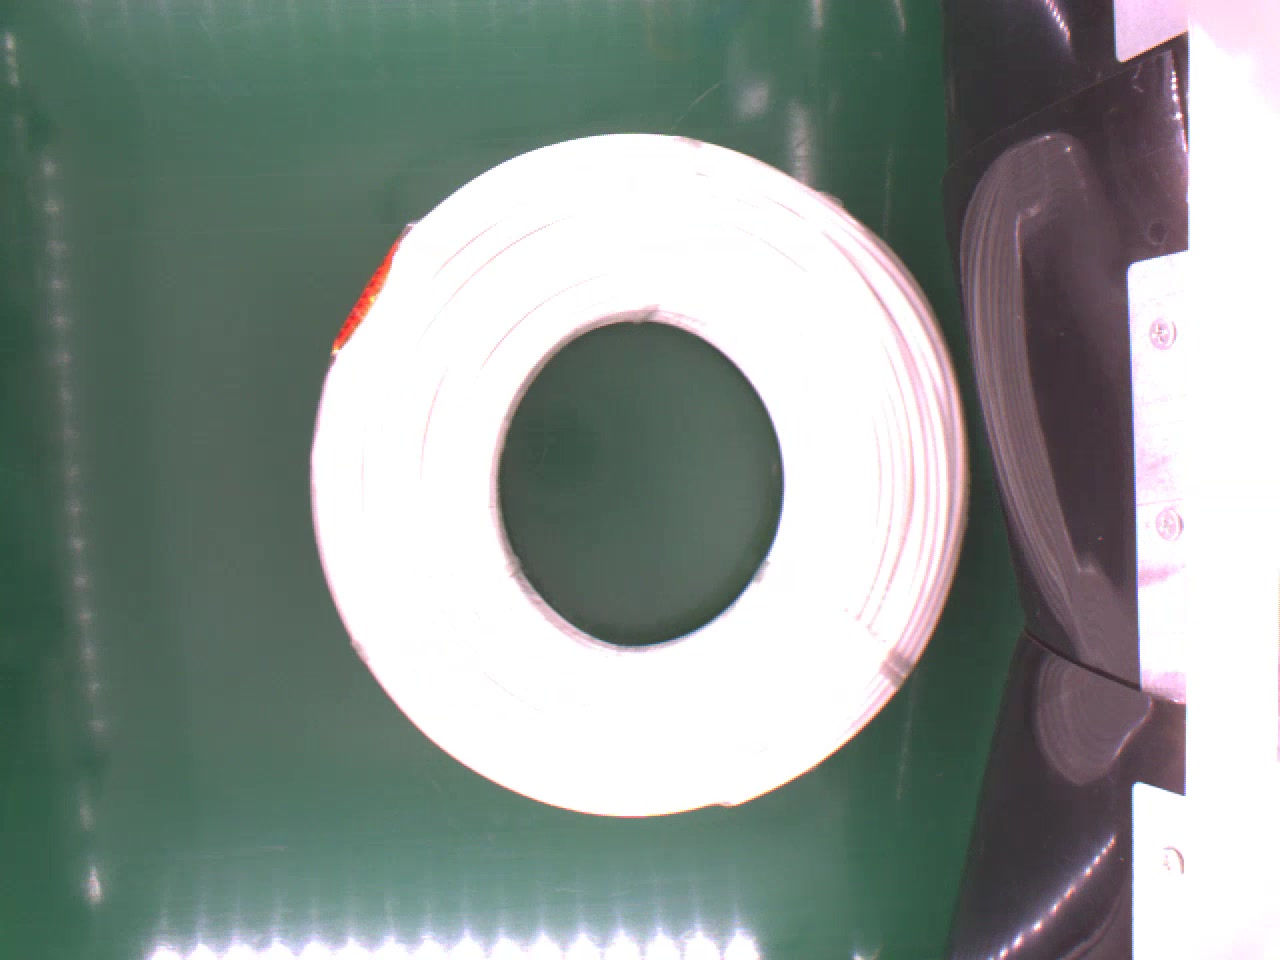white: (306, 127, 980, 815)
